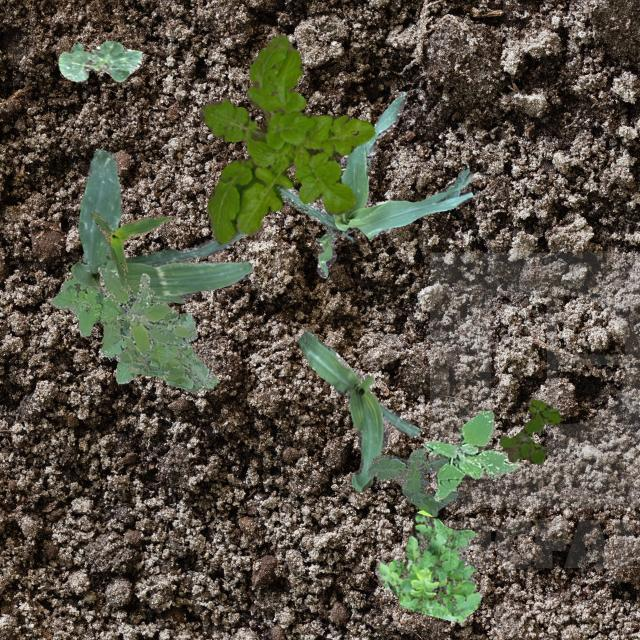crop: (276, 90, 472, 276), (72, 148, 250, 304), (297, 330, 418, 490), (90, 210, 172, 292), (56, 40, 140, 80)
weed: (198, 32, 374, 242), (49, 265, 218, 391), (374, 510, 481, 620), (424, 408, 520, 501), (96, 266, 190, 354), (366, 448, 460, 516), (498, 398, 560, 462)
